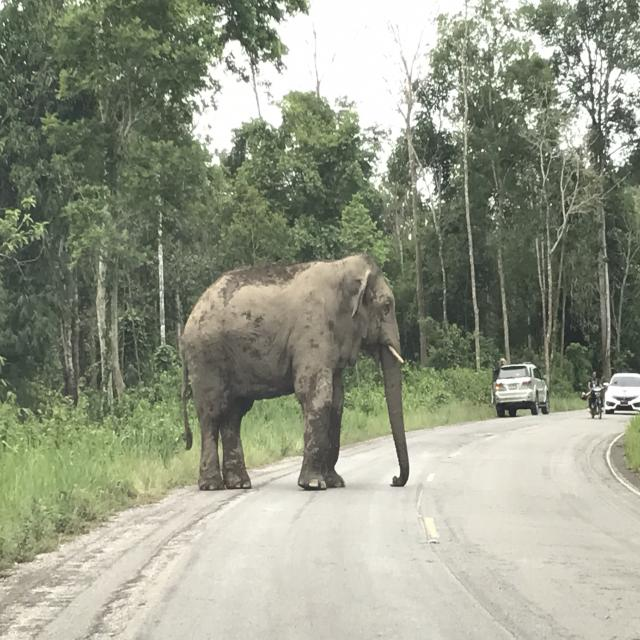Elephant: (174, 260, 420, 490)
